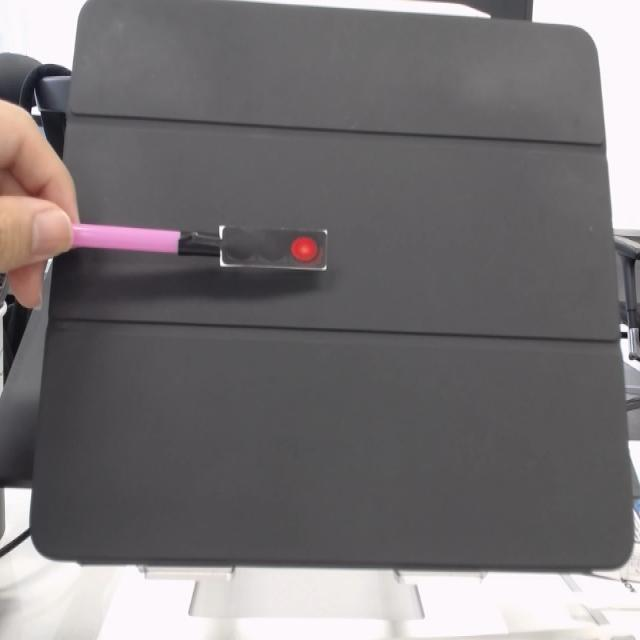traffic light: (212, 224, 327, 279)
